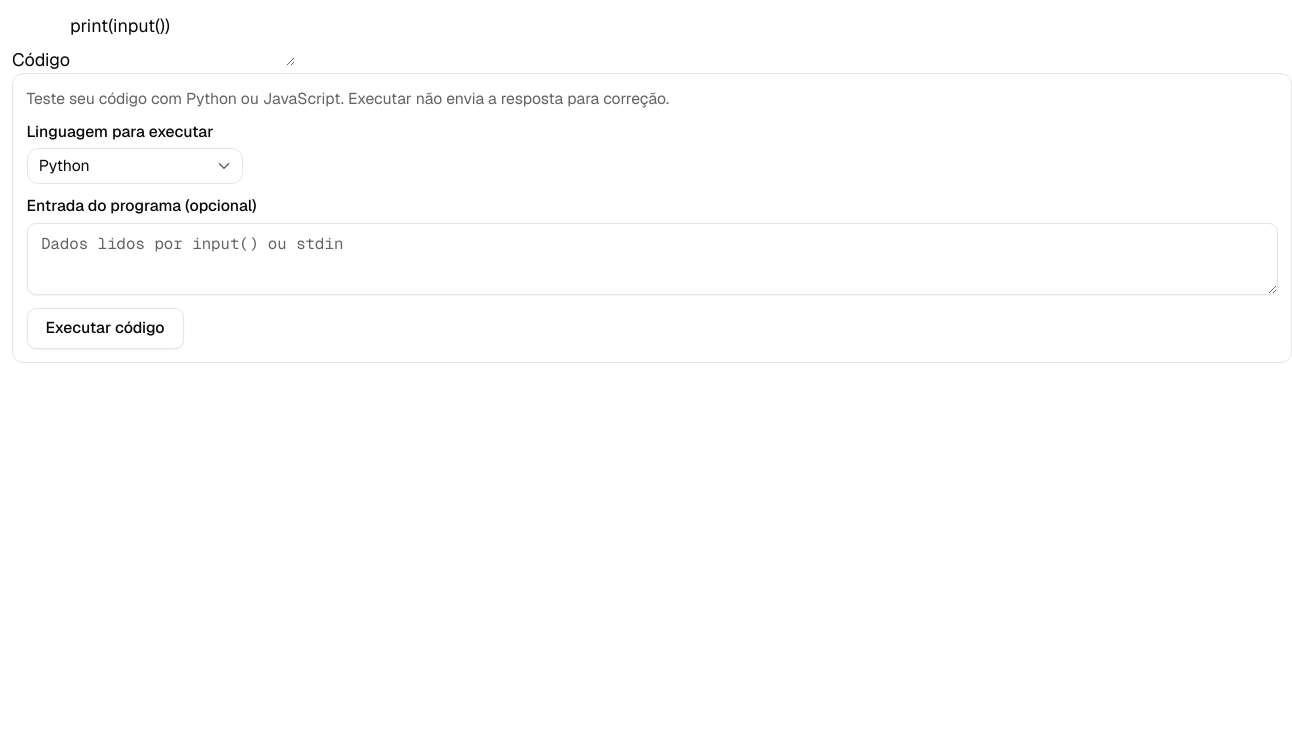
Execução experimental de código › apresenta erro e saída como texto sem executar HTML
Click the button "Executar código": coordinates (105, 328) [26,308,184,348]
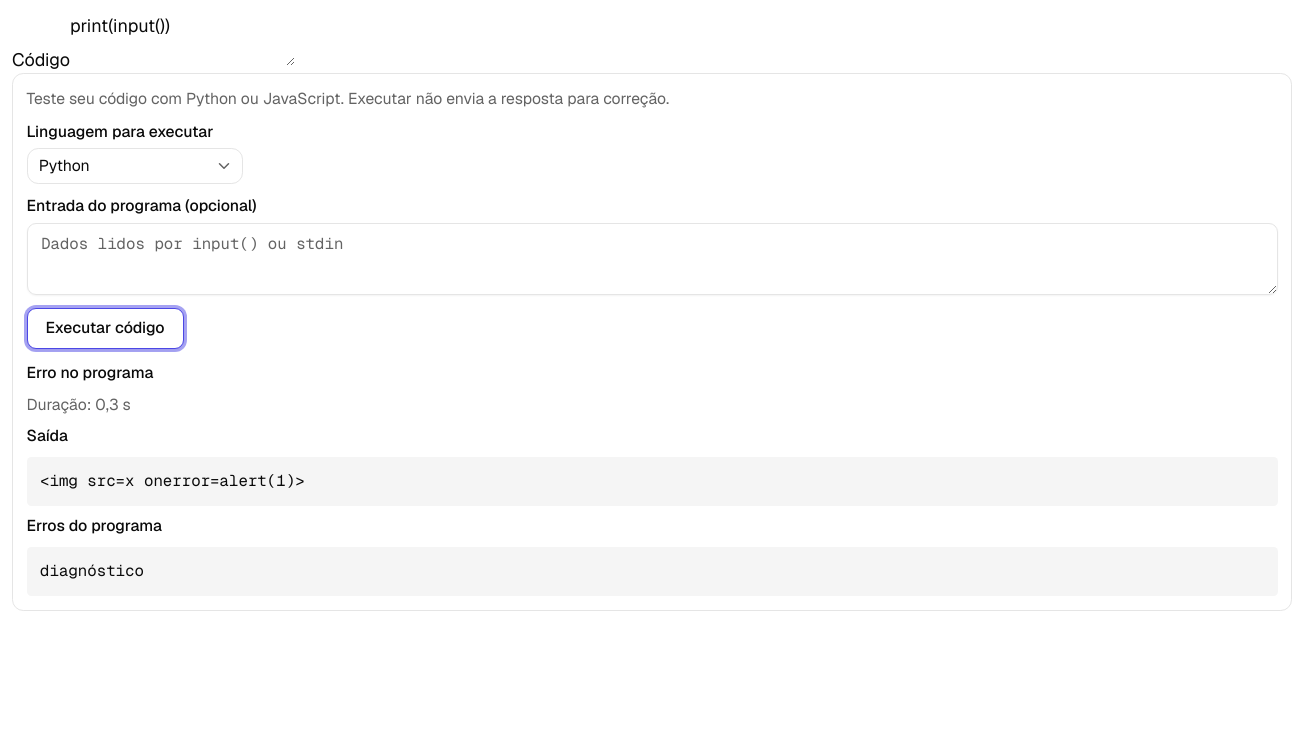
Expected: the text "Erro no programa" is shown, [26,362,153,383]
Expected: the text "<img src=x onerror=alert(1)>" is shown, [26,456,1278,506]
Expected: the text "diagnóstico" is shown, [26,546,1278,596]
